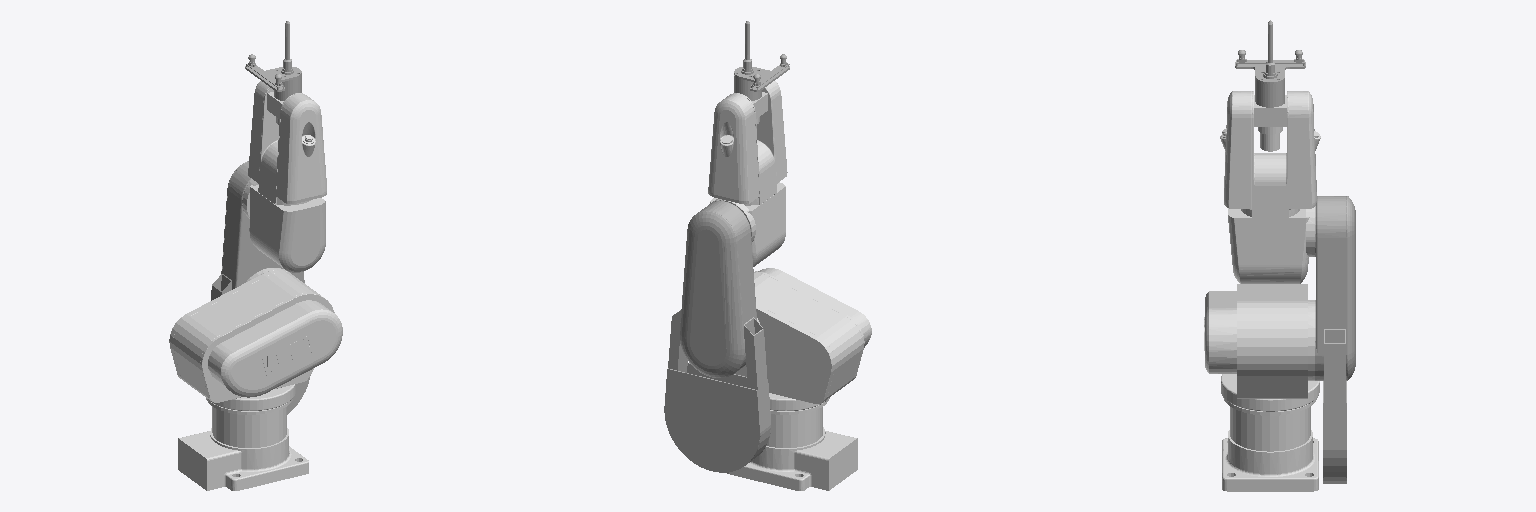
URDF robot description (m6r):
<?xml version="1.0" encoding="utf-8"?>
<!-- This URDF was automatically created by SolidWorks to URDF Exporter! Originally created by [author] ([email redacted]) 
     Commit Version: 1.6.0-4-g7f85cfe  Build Version: 1.6.7995.38578
     For more information, please see http://wiki.ros.org/sw_urdf_exporter -->
<robot
  name="m6r">
  <link
    name="base_link">
    <inertial>
      <origin
        xyz="-0.0146959562730705 -1.31808177654722E-09 0.0738790283475741"
        rpy="0 0 0" />
      <mass
        value="5.31276956078926" />
      <inertia
        ixx="0.0254280679798273"
        ixy="-3.83756468568407E-10"
        ixz="-0.00246652568977196"
        iyy="0.0327484488605481"
        iyz="-4.23043782522762E-10"
        izz="0.0305803894465856" />
    </inertial>
    <visual>
      <origin
        xyz="0 0 0"
        rpy="0 0 0" />
      <geometry>
        <mesh
          filename="package://m6r_description/meshes/m6r_0110/base_link.STL" />
      </geometry>
      <material
        name="">
        <color
          rgba="0.894117647058823 0.894117647058823 0.894117647058823 1" />
      </material>
    </visual>
    <collision>
      <origin
        xyz="0 0 0"
        rpy="0 0 0" />
      <geometry>
        <mesh
          filename="package://m6r_description/meshes/m6r_0110/base_link.STL" />
      </geometry>
    </collision>
  </link>
  <link
    name="waist_link">
    <inertial>
      <origin
        xyz="0.0139701613082039 -0.015936284472385 0.132965338967223"
        rpy="0 0 0" />
      <mass
        value="13.4868898164828" />
      <inertia
        ixx="0.103115065826466"
        ixy="-0.0027942922654768"
        ixz="-0.0175187461405487"
        iyy="0.154263710369968"
        iyz="0.00418239915297628"
        izz="0.150904232632326" />
    </inertial>
    <visual>
      <origin
        xyz="0 0 0"
        rpy="0 0 0" />
      <geometry>
        <mesh
          filename="package://m6r_description/meshes/m6r_0110/waist_link.STL" />
      </geometry>
      <material
        name="">
        <color
          rgba="0.894117647058823 0.894117647058823 0.894117647058823 1" />
      </material>
    </visual>
    <collision>
      <origin
        xyz="0 0 0"
        rpy="0 0 0" />
      <geometry>
        <mesh
          filename="package://m6r_description/meshes/m6r_0110/waist_link.STL" />
      </geometry>
    </collision>
  </link>
  <joint
    name="joint1"
    type="revolute">
    <origin
      xyz="0 0 0.175"
      rpy="0 0 0" />
    <parent
      link="base_link" />
    <child
      link="waist_link" />
    <axis
      xyz="0 0 1" />
    <limit
      lower="-3.14"
      upper="3.14"
      effort="50"
      velocity="100" />
  </joint>
  <link
    name="shoulder_link">
    <inertial>
      <origin
        xyz="-0.0393421032855981 0.0417793152023532 0.0773583929062565"
        rpy="0 0 0" />
      <mass
        value="5.239440252985" />
      <inertia
        ixx="0.0539250127743356"
        ixy="1.38922530733157E-06"
        ixz="0.0203431860572253"
        iyy="0.0726126815272468"
        iyz="-2.72845406496887E-06"
        izz="0.0242701394994817" />
    </inertial>
    <visual>
      <origin
        xyz="0 0 0"
        rpy="0 0 0" />
      <geometry>
        <mesh
          filename="package://m6r_description/meshes/m6r_0110/shoulder_link.STL" />
      </geometry>
      <material
        name="">
        <color
          rgba="0.752941176470588 0.752941176470588 0.752941176470588 1" />
      </material>
    </visual>
    <collision>
      <origin
        xyz="0 0 0"
        rpy="0 0 0" />
      <geometry>
        <mesh
          filename="package://m6r_description/meshes/m6r_0110/shoulder_link.STL" />
      </geometry>
    </collision>
  </link>
  <joint
    name="joint2"
    type="revolute">
    <origin
      xyz="0.1 0.094 0.175"
      rpy="0 0.47024 0" />
    <parent
      link="waist_link" />
    <child
      link="shoulder_link" />
    <axis
      xyz="0 1 0" />
    <limit
      lower="-3.14"
      upper="3.14"
      effort="50"
      velocity="100" />
  </joint>
  <link
    name="elbow_link">
    <inertial>
      <origin
        xyz="-0.0324458881612945 -0.0899423500054787 6.19472507663449E-05"
        rpy="0 0 0" />
      <mass
        value="3.1983360651658" />
      <inertia
        ixx="0.0112232922596549"
        ixy="-0.000413394805888793"
        ixz="-6.08808867039753E-08"
        iyy="0.0102793012206642"
        iyz="-6.82240237651006E-08"
        izz="0.0146558013438073" />
    </inertial>
    <visual>
      <origin
        xyz="0 0 0"
        rpy="0 0 0" />
      <geometry>
        <mesh
          filename="package://m6r_description/meshes/m6r_0110/elbow_link.STL" />
      </geometry>
      <material
        name="">
        <color
          rgba="0.894117647058823 0.894117647058823 0.894117647058823 1" />
      </material>
    </visual>
    <collision>
      <origin
        xyz="0 0 0"
        rpy="0 0 0" />
      <geometry>
        <mesh
          filename="package://m6r_description/meshes/m6r_0110/elbow_link.STL" />
      </geometry>
    </collision>
  </link>
  <joint
    name="joint3"
    type="revolute">
    <origin
      xyz="-0.12007 0 0.23624"
      rpy="3.1416 -1.1006 3.1416" />
    <parent
      link="shoulder_link" />
    <child
      link="elbow_link" />
    <axis
      xyz="0 1 0" />
    <limit
      lower="-3.14"
      upper="3.14"
      effort="50"
      velocity="100" />
  </joint>
  <link
    name="forearm_link">
    <inertial>
      <origin
        xyz="0.109668118306563 -4.13962910319617E-05 6.31873191234977E-05"
        rpy="0 0 0" />
      <mass
        value="3.39321721908934" />
      <inertia
        ixx="0.0140130697605679"
        ixy="9.48980902634125E-06"
        ixz="-9.8999024639953E-07"
        iyy="0.0190947215800425"
        iyz="-1.85475880373875E-07"
        izz="0.0280985723226197" />
    </inertial>
    <visual>
      <origin
        xyz="0 0 0"
        rpy="0 0 0" />
      <geometry>
        <mesh
          filename="package://m6r_description/meshes/m6r_0110/forearm_link.STL" />
      </geometry>
      <material
        name="">
        <color
          rgba="0.894117647058823 0.894117647058823 0.894117647058823 1" />
      </material>
    </visual>
    <collision>
      <origin
        xyz="0 0 0"
        rpy="0 0 0" />
      <geometry>
        <mesh
          filename="package://m6r_description/meshes/m6r_0110/forearm_link.STL" />
      </geometry>
    </collision>
  </link>
  <joint
    name="joint4"
    type="revolute">
    <origin
      xyz="0.045 -0.094 0"
      rpy="0 0 0" />
    <parent
      link="elbow_link" />
    <child
      link="forearm_link" />
    <axis
      xyz="1 0 0" />
    <limit
      lower="-3.14"
      upper="3.14"
      effort="50"
      velocity="100" />
  </joint>
  <link
    name="wriste_pitch">
    <inertial>
      <origin
        xyz="-0.0171303931049135 5.18595840840373E-15 6.24160410160612E-05"
        rpy="0 0 0" />
      <mass
        value="0.295781549289781" />
      <inertia
        ixx="0.000182023567605451"
        ixy="5.17679923091508E-20"
        ixz="3.12977259322246E-20"
        iyy="0.000310680621706772"
        iyz="-2.4319822037332E-20"
        izz="0.000308656048501104" />
    </inertial>
    <visual>
      <origin
        xyz="0 0 0"
        rpy="0 0 0" />
      <geometry>
        <mesh
          filename="package://m6r_description/meshes/m6r_0110/wriste_pitch.STL" />
      </geometry>
      <material
        name="">
        <color
          rgba="0.894117647058823 0.894117647058823 0.894117647058823 1" />
      </material>
    </visual>
    <collision>
      <origin
        xyz="0 0 0"
        rpy="0 0 0" />
      <geometry>
        <mesh
          filename="package://m6r_description/meshes/m6r_0110/wriste_pitch.STL" />
      </geometry>
    </collision>
  </link>
  <joint
    name="joint5"
    type="revolute">
    <origin
      xyz="0.225 0 0"
      rpy="0 0 0" />
    <parent
      link="forearm_link" />
    <child
      link="wriste_pitch" />
    <axis
      xyz="0 1 0" />
    <limit
      lower="-3.14"
      upper="3.14"
      effort="50"
      velocity="100" />
  </joint>
  <link
    name="wriste_roll">
    <inertial>
      <origin
        xyz="-0.14586 1.4401E-06 -0.0083042"
        rpy="0 0 0" />
      <mass
        value="0.24032" />
      <inertia
        ixx="0.00019091"
        ixy="6.6371E-09"
        ixz="-3.8831E-07"
        iyy="0.00015506"
        iyz="-2.8116E-09"
        izz="0.00019702" />
    </inertial>
    <visual>
      <origin
        xyz="0 0 0"
        rpy="0 0 0" />
      <geometry>
        <mesh
          filename="package://m6r_description/meshes/m6r_0110/wriste_roll.STL" />
      </geometry>
      <material
        name="">
        <color
          rgba="0.75294 0.75294 0.75294 1" />
      </material>
    </visual>
    <collision>
      <origin
        xyz="0 0 0"
        rpy="0 0 0" />
      <geometry>
        <mesh
          filename="package://m6r_description/meshes/m6r_0110/wriste_roll.STL" />
      </geometry>
    </collision>
  </link>
  <joint
    name="joint6"
    type="revolute">
    <origin
      xyz="0.208 0 6.2416E-05"
      rpy="3.1416 0 0" />
    <parent
      link="wriste_pitch" />
    <child
      link="wriste_roll" />
    <axis
      xyz="-1 0 0" />
    <limit
      lower="-3.14"
      upper="3.14"
      effort="50"
      velocity="100" />
  </joint>
</robot>

--- Facts derived from the render (not from the file) ---
Views: 3 orthographic renders of the robot side by side, from view 1: azimuth 30°, elevation 25°; view 2: azimuth 150°, elevation 25°; view 3: azimuth 270°, elevation 25°.
Robot: m6r — 7 links, 6 joints (6 revolute); root link base_link; default pose: every joint at zero.
Visible links, largest first — view 1: waist_link, base_link, forearm_link, elbow_link, shoulder_link, wriste_roll; view 2: shoulder_link, waist_link, forearm_link, base_link, elbow_link, wriste_roll; view 3: waist_link, shoulder_link, forearm_link, base_link, elbow_link, wriste_roll, wriste_pitch.
Boxes of the visible links, box(x1,y1,x2,y2) form: waist_link: box(169, 268, 342, 414); base_link: box(178, 406, 308, 490); forearm_link: box(248, 81, 326, 205); elbow_link: box(242, 179, 325, 272); shoulder_link: box(211, 161, 310, 414); wriste_roll: box(245, 21, 301, 100); shoulder_link: box(664, 200, 770, 472); waist_link: box(735, 268, 871, 414); forearm_link: box(708, 81, 787, 205); base_link: box(727, 407, 857, 490); elbow_link: box(710, 182, 785, 266); wriste_roll: box(734, 21, 789, 100); waist_link: box(1204, 284, 1319, 415); shoulder_link: box(1315, 196, 1355, 483); forearm_link: box(1220, 91, 1320, 217); base_link: box(1222, 406, 1318, 491); elbow_link: box(1228, 207, 1314, 283); wriste_roll: box(1235, 20, 1305, 107); wriste_pitch: box(1254, 95, 1286, 151).
Bounding box of the posed robot: 0.3917 × 0.3197 × 1.09 m (x, y, z).
7 mesh visuals loaded from 7 distinct referenced files (7 binary STL).
